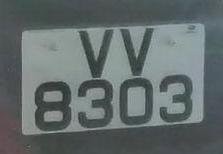0: (116, 73, 158, 130)
3: (74, 75, 119, 134), (154, 70, 199, 125)
8: (27, 71, 77, 139)
V: (72, 25, 121, 81), (115, 22, 157, 79)
